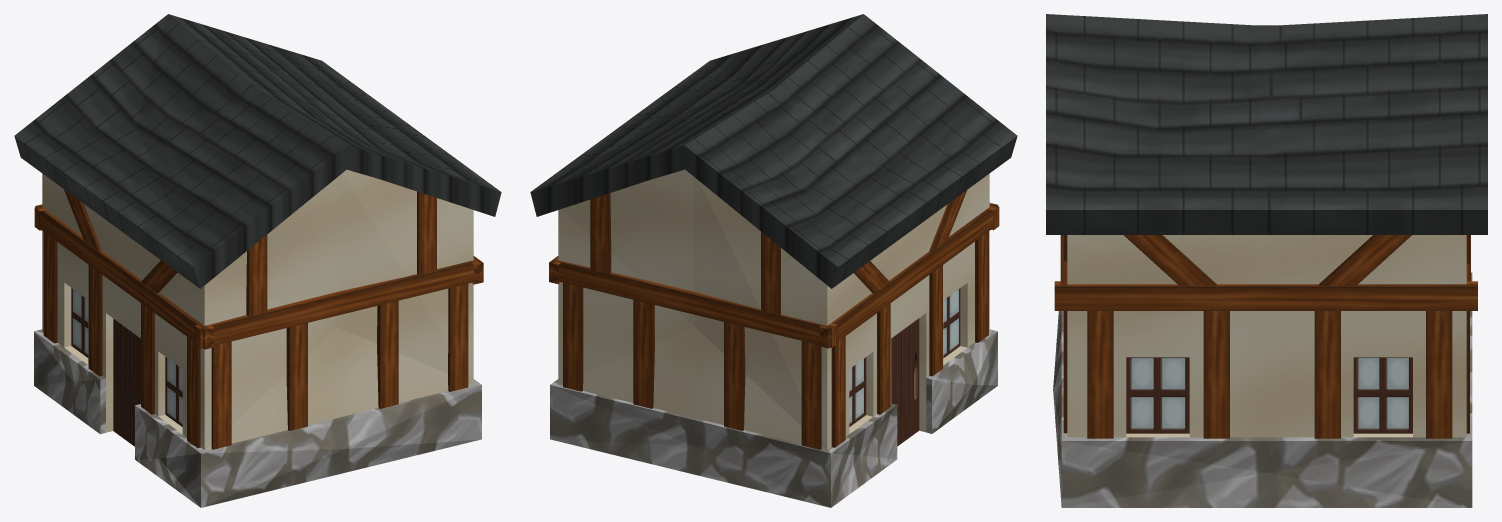
Rendered from co_Building03.fbx.
3 renders of one model, left to right at view 1: azimuth 30°, elevation 25°; view 2: azimuth 150°, elevation 25°; view 3: azimuth 270°, elevation 25°, orthographic. The views are drawn at different scales.
Parts seen in each view (by area): view 1: Building03; view 2: Building03; view 3: Building03.
Boxes of the visible parts, left/top/right/bottom form: Building03: left=14, top=14, right=501, bottom=507; Building03: left=530, top=14, right=1017, bottom=507; Building03: left=1046, top=14, right=1487, bottom=507.
Size of the model in its own units: 2287 by 2364 by 2311.
